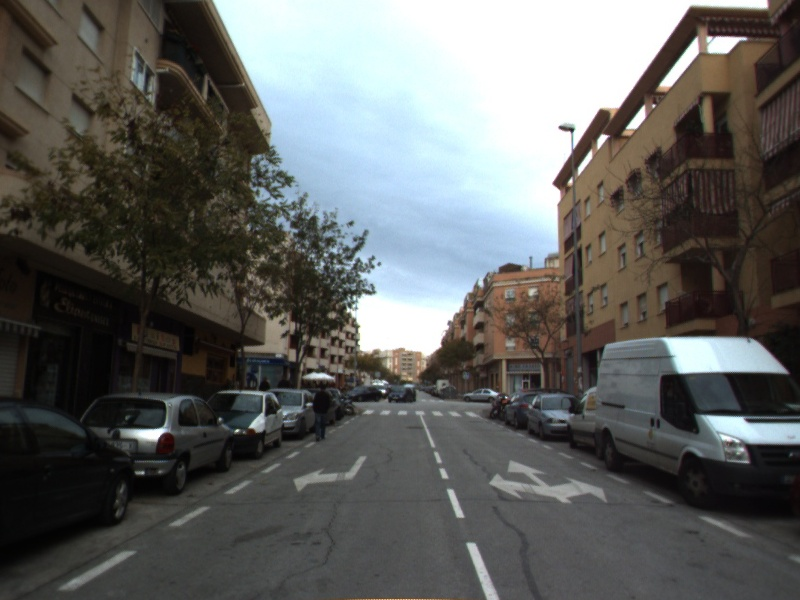STRAIGHT_LEFT_RIGHT: (487, 458, 609, 505)
